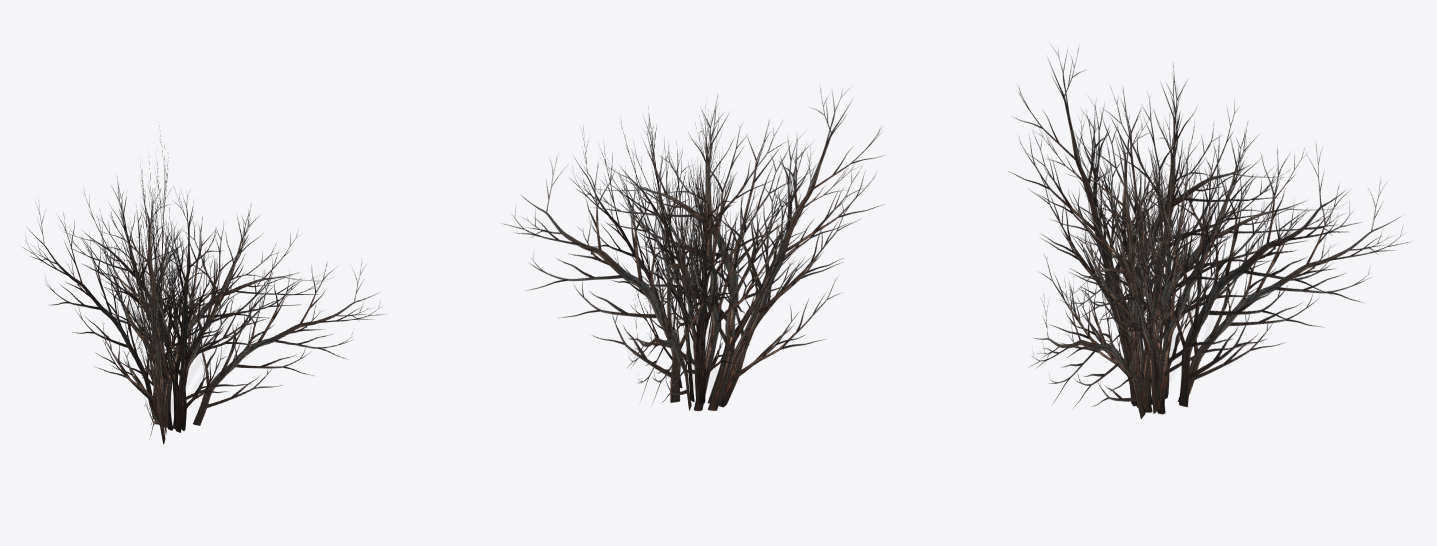
File: fern_3.glb
3 renders of one model, left to right at view 1: azimuth 30°, elevation 25°; view 2: azimuth 150°, elevation 25°; view 3: azimuth 270°, elevation 25°, orthographic. The views are drawn at different scales.
Visible parts, largest first — view 1: fern_3; view 2: fern_3; view 3: fern_3.
Boxes of the visible parts, bbox=[...] form: fern_3: bbox=[22, 125, 384, 444]; fern_3: bbox=[502, 88, 884, 411]; fern_3: bbox=[1008, 45, 1409, 418].
Bounding box in the file's own units: 2.01 × 2.62 × 2.18.
Materials: 1 (1 with a texture image).
